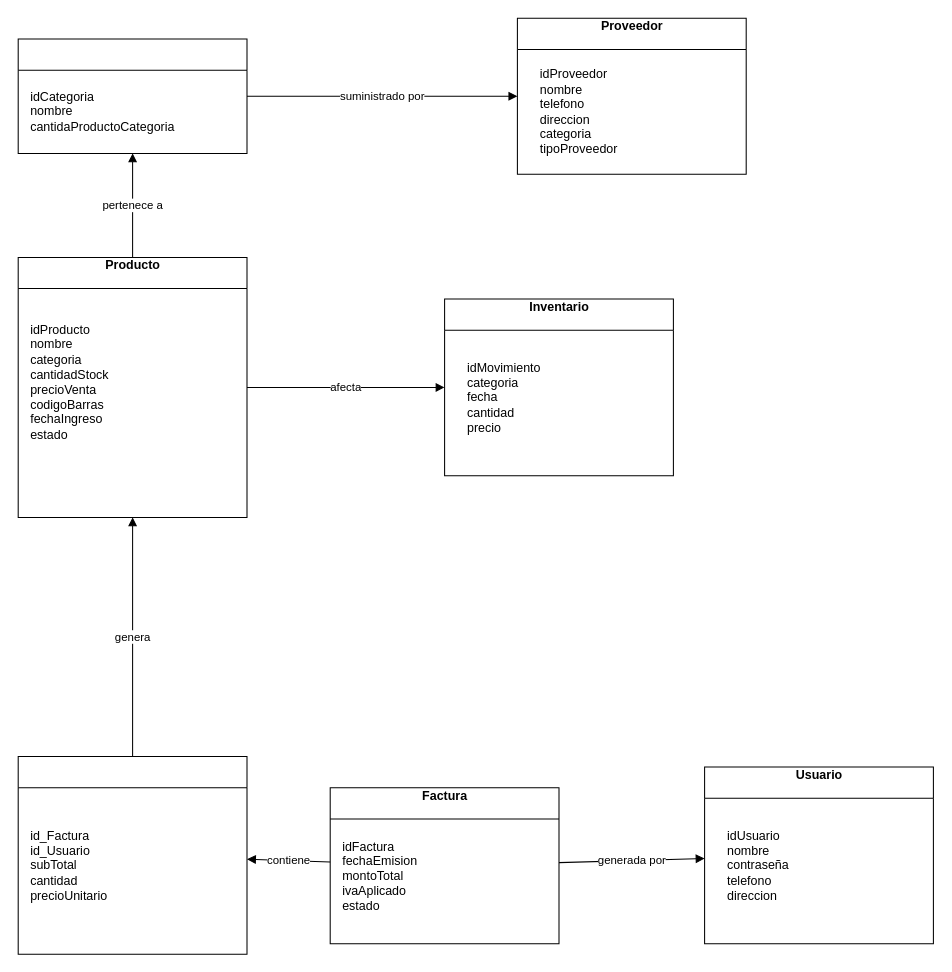
Some shapes in this 952 by 972 pixel diagram are drawn without their labels. Each missing label, with the box of its shape:
Categoría: (17, 38, 247, 153)
DetalleFactura: (17, 756, 247, 954)
